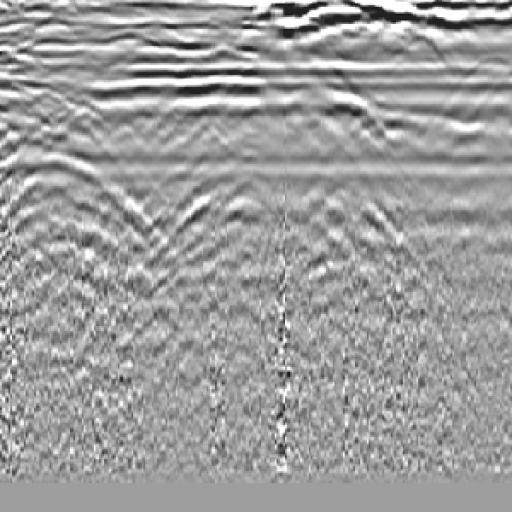metalic: (137, 48, 305, 287)
